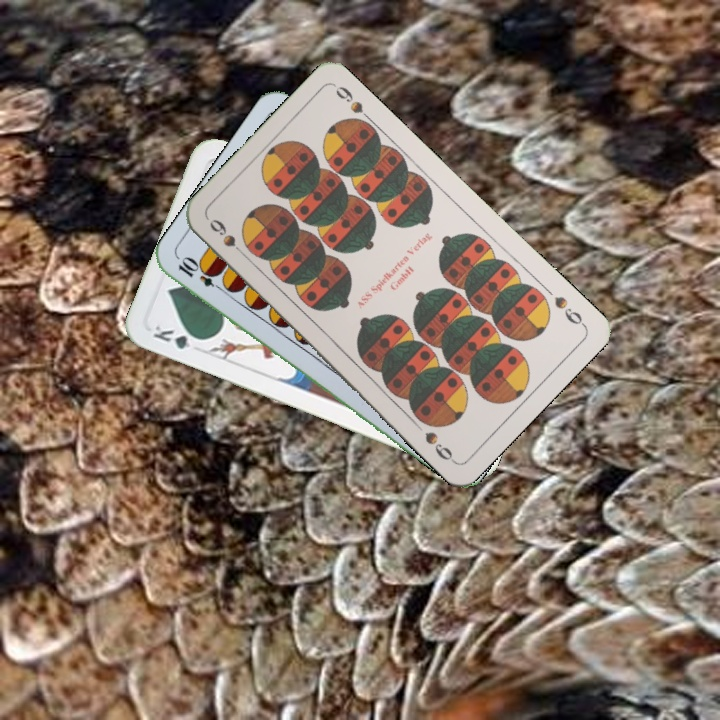E10: (174, 254, 229, 295)
GK: (149, 321, 207, 355)
S9: (205, 214, 251, 262), (550, 292, 588, 329)
